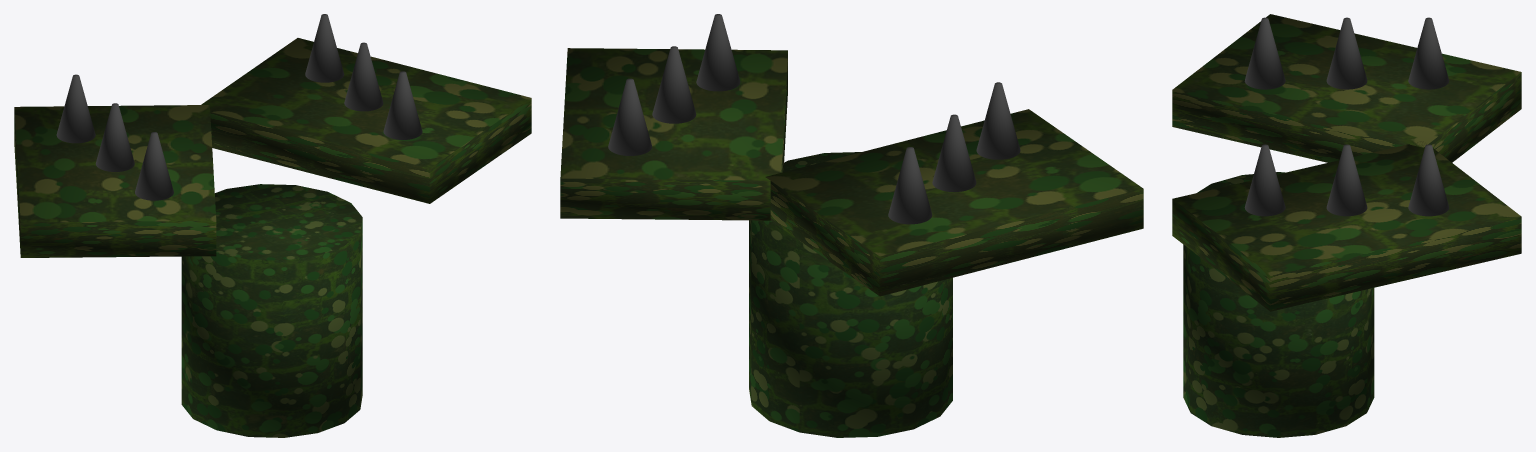
File: grotto-snapper.glb
3 views of the same model, side by side, from view 1: azimuth 30°, elevation 25°; view 2: azimuth 150°, elevation 25°; view 3: azimuth 270°, elevation 25° (orthographic). The views are drawn at different scales.
Visible parts, largest first — view 1: Stem, Jaw.001, Jaw, Tooth.003, Tooth.004, Tooth.002, Tooth, Tooth.005, Tooth.001; view 2: Jaw, Stem, Jaw.001, Tooth, Tooth.002, Tooth.001, Tooth.003, Tooth.004, Tooth.005; view 3: Jaw.001, Jaw, Stem, Tooth, Tooth.004, Tooth.002, Tooth.001, Tooth.003, Tooth.005.
Part boxes in pixels (left/top/right/bottom): Stem: left=181, top=184, right=362, bottom=437; Jaw.001: left=201, top=38, right=531, bottom=203; Jaw: left=14, top=105, right=216, bottom=257; Tooth.003: left=383, top=71, right=422, bottom=139; Tooth.004: left=344, top=42, right=383, bottom=111; Tooth.002: left=56, top=74, right=95, bottom=143; Tooth: left=135, top=132, right=173, bottom=200; Tooth.005: left=305, top=14, right=344, bottom=82; Tooth.001: left=95, top=103, right=134, bottom=171; Jaw: left=765, top=109, right=1143, bottom=296; Stem: left=749, top=152, right=952, bottom=437; Jaw.001: left=560, top=48, right=787, bottom=220; Tooth: left=976, top=82, right=1020, bottom=159; Tooth.002: left=888, top=147, right=932, bottom=224; Tooth.001: left=932, top=114, right=976, bottom=191; Tooth.003: left=696, top=14, right=740, bottom=91; Tooth.004: left=652, top=46, right=696, bottom=123; Tooth.005: left=608, top=78, right=651, bottom=155; Jaw.001: left=1172, top=141, right=1521, bottom=311; Jaw: left=1172, top=14, right=1521, bottom=162; Stem: left=1183, top=172, right=1374, bottom=437; Tooth: left=1244, top=17, right=1285, bottom=89; Tooth.004: left=1326, top=144, right=1367, bottom=216; Tooth.002: left=1408, top=17, right=1449, bottom=89; Tooth.001: left=1326, top=17, right=1367, bottom=89; Tooth.003: left=1244, top=144, right=1285, bottom=216; Tooth.005: left=1408, top=144, right=1449, bottom=216.
Size of the model in its own units: 1.77 by 1 by 1.
3 materials, 2 textured.
